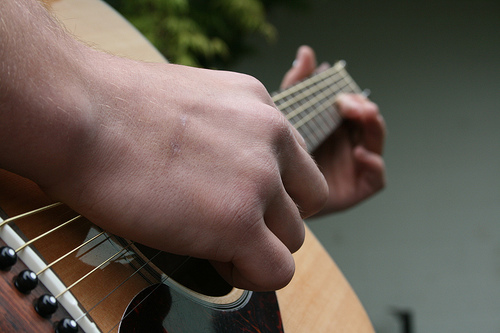guitar: (1, 60, 377, 333)
